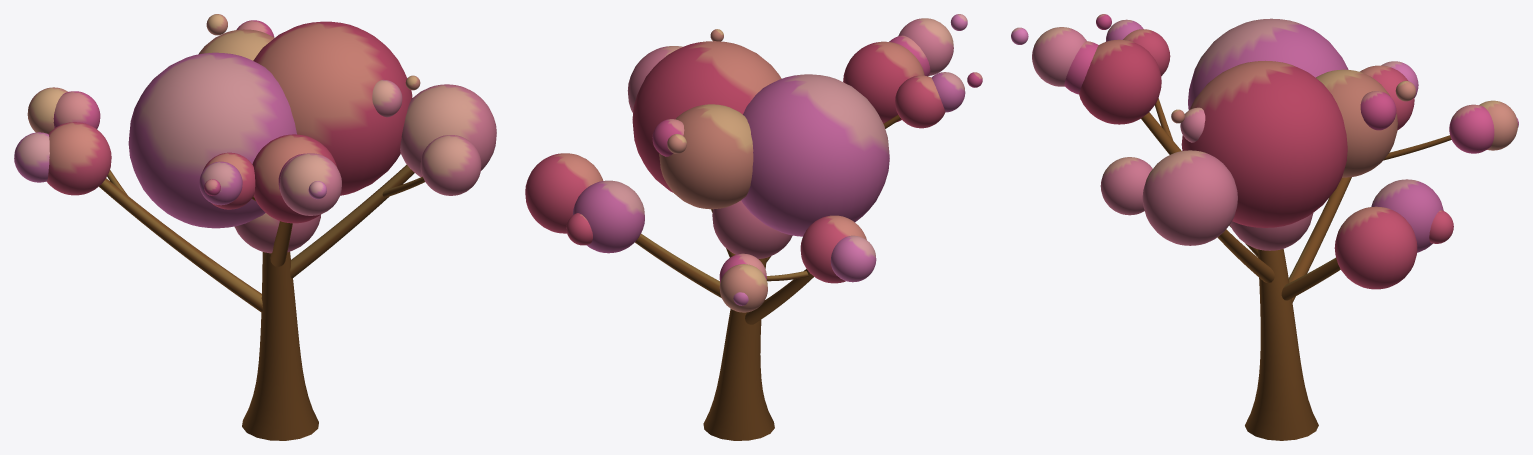
Rendered from canopy-tree-217.obj.
3 views of the same model, side by side, from view 1: azimuth 30°, elevation 25°; view 2: azimuth 150°, elevation 25°; view 3: azimuth 270°, elevation 25° (orthographic). The views are drawn at different scales.
Visible parts, largest first — view 1: tree; view 2: tree; view 3: tree.
Boxes of the visible parts, left/top/right/bottom form: tree: left=14, top=14, right=496, bottom=440; tree: left=525, top=14, right=982, bottom=440; tree: left=1011, top=14, right=1518, bottom=440.
Bounding box in the file's own units: 435 × 429 × 528.
